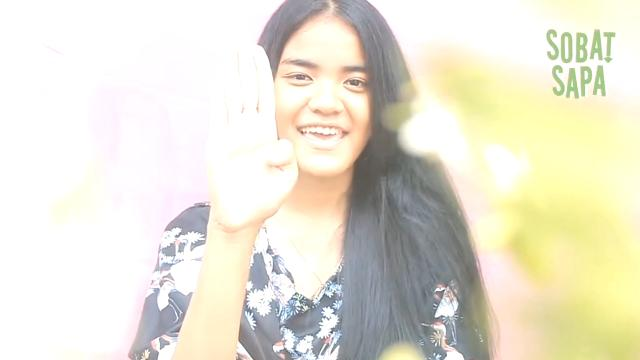B: (206, 34, 298, 232)
